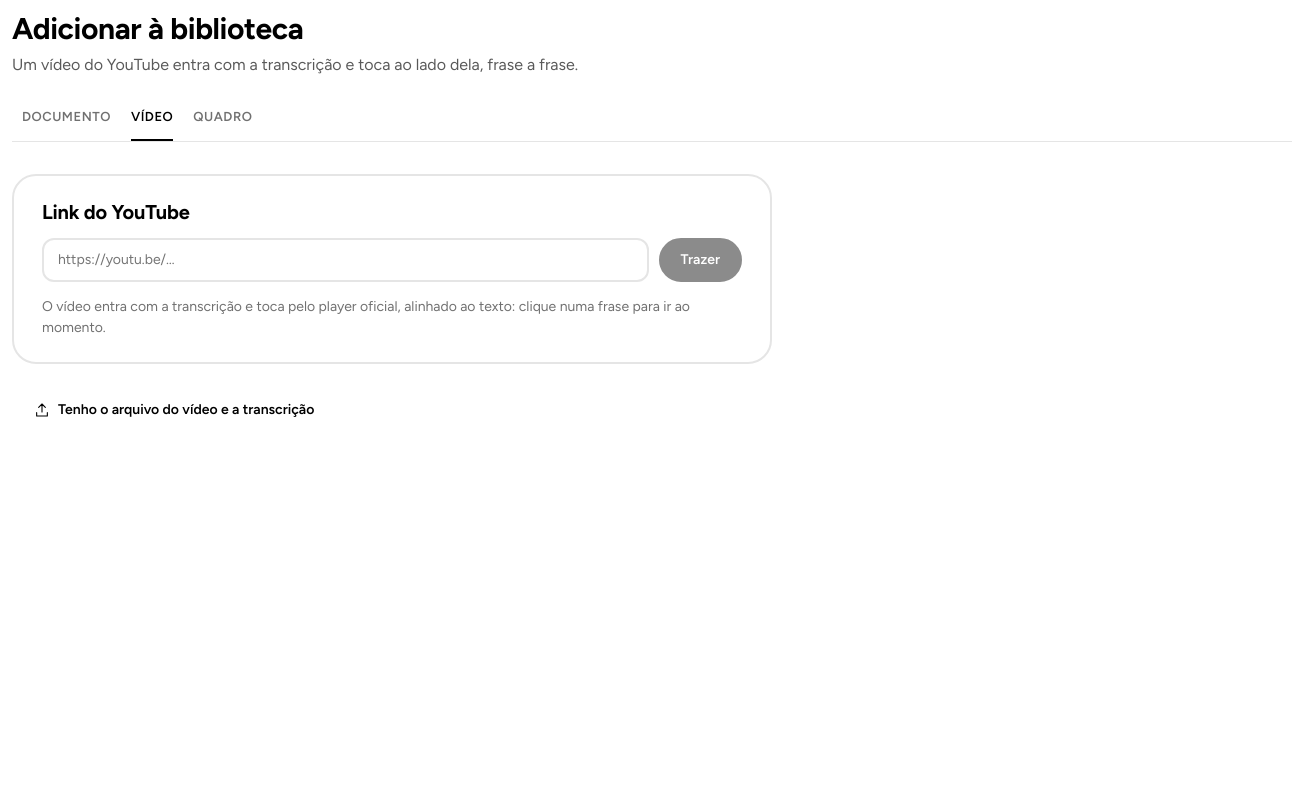
Scenario: link do YouTube vai ao serviço; rota ausente (404) explica que ainda não há importação de vídeo
Step 1. Type "https://youtu.be/abc" into the field named "Endereço" → (345, 260), box [42, 238, 649, 282]
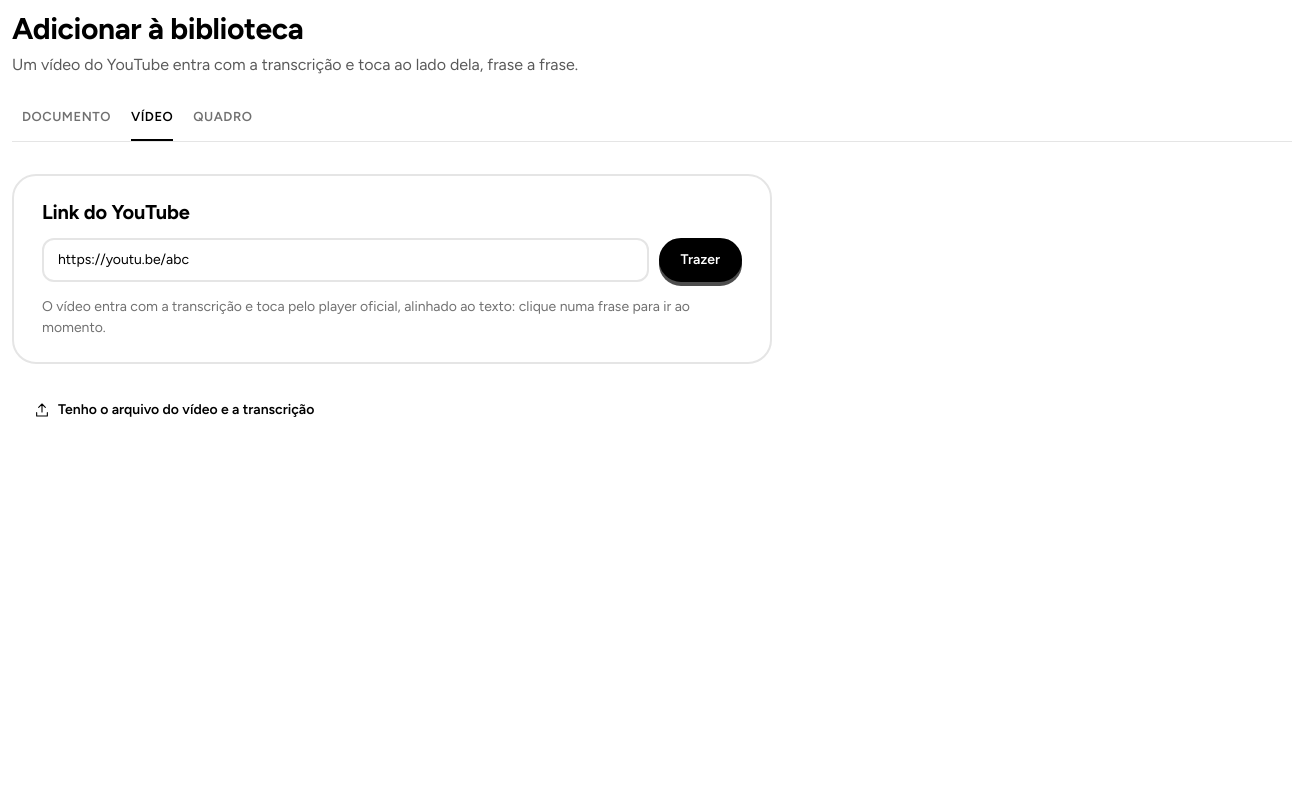
Step 2. Click the button "Trazer" → (700, 260), box [659, 238, 742, 282]
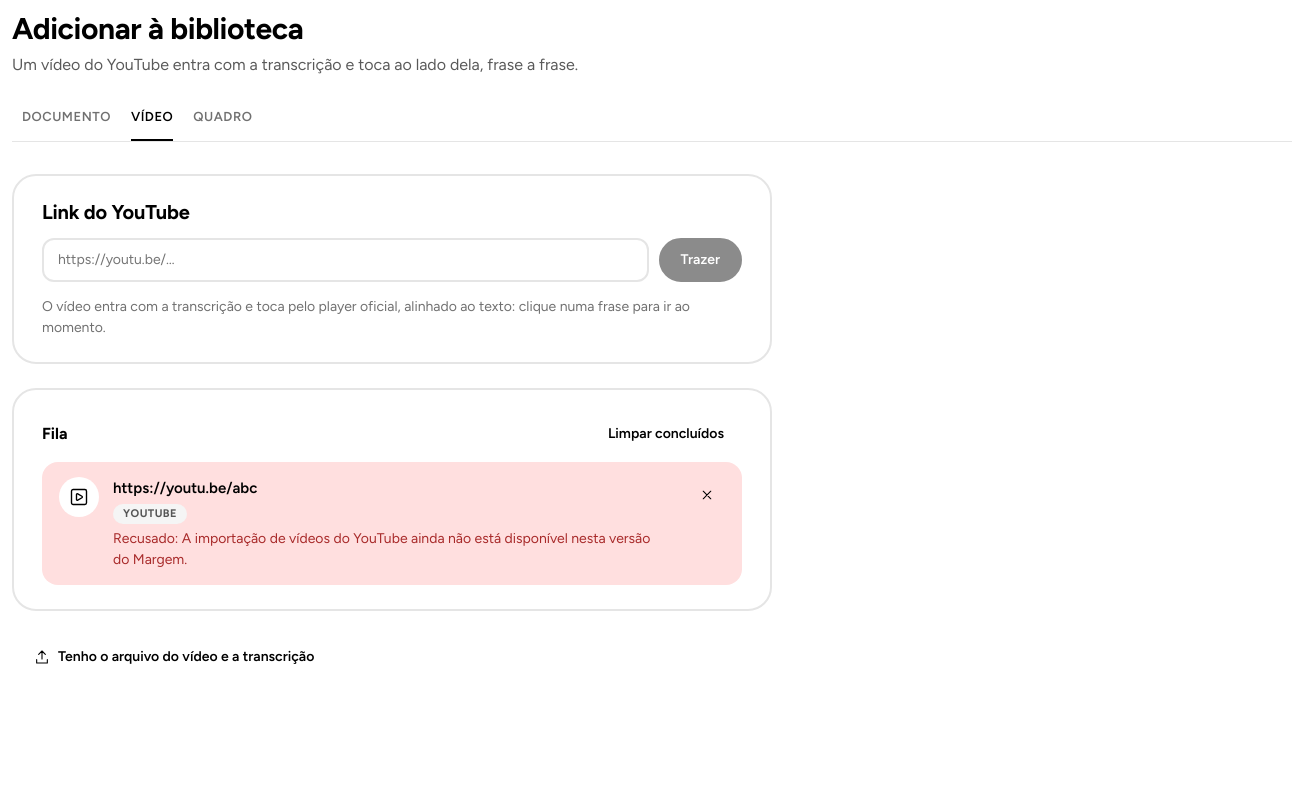
Check: the text "ainda não está disponível nesta versão" is shown, box [113, 530, 650, 568]
